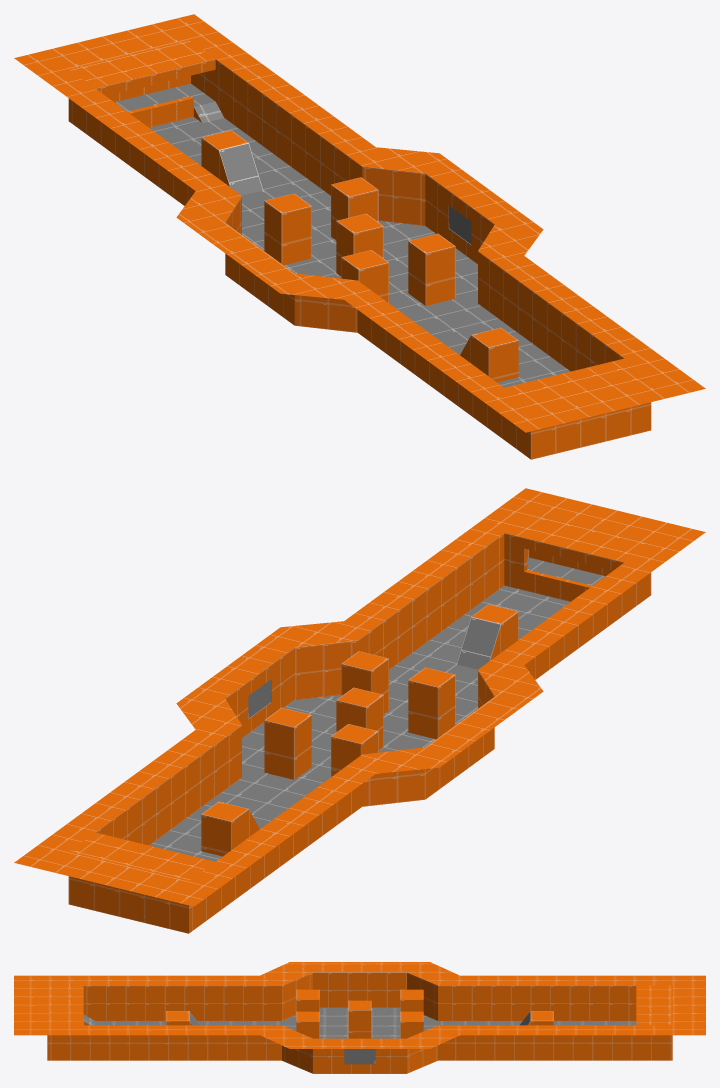
File: TestMapMesh (fbx).fbx
The picture shows the model from 3 angles, top to bottom: view 1: azimuth 30°, elevation 25°; view 2: azimuth 150°, elevation 25°; view 3: azimuth 270°, elevation 25°; orthographic projection. The views are drawn at different scales.
Parts seen in each view (by area): view 1: Plane, Cube, Cube_002, Cube_001; view 2: Plane, Cube, Cube_001, Cube_002; view 3: Plane, Cube, Cube_001, Cube_002.
Boxes of the visible parts, left/top/right/bottom form: Plane: left=14, top=14, right=705, bottom=459; Cube: left=201, top=130, right=518, bottom=382; Cube_002: left=69, top=39, right=224, bottom=127; Cube_001: left=504, top=358, right=650, bottom=407; Plane: left=14, top=488, right=705, bottom=933; Cube: left=201, top=604, right=518, bottom=856; Cube_001: left=504, top=513, right=650, bottom=601; Cube_002: left=69, top=832, right=215, bottom=881; Plane: left=14, top=962, right=705, bottom=1073; Cube: left=166, top=989, right=553, bottom=1038; Cube_001: left=47, top=985, right=95, bottom=1025; Cube_002: left=636, top=985, right=672, bottom=1025.
Size of the model in its own units: 39.43 by 7.5 by 133.
